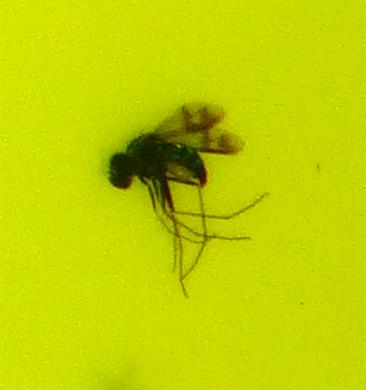Brachycera: (100, 100, 266, 290)
